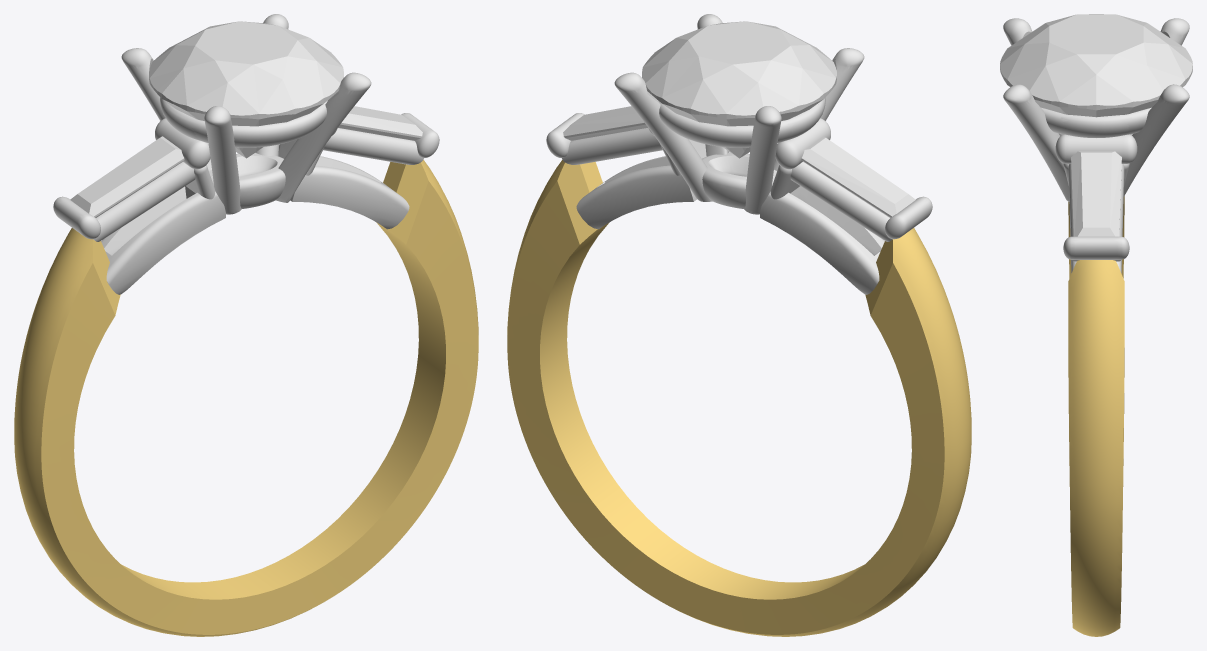
File: LizGygpt_blender.glb
3 views of the same model, side by side, from view 1: azimuth 30°, elevation 25°; view 2: azimuth 150°, elevation 25°; view 3: azimuth 270°, elevation 25° (orthographic).
Parts seen in each view (by area): view 1: Liz YG for 3d model, Liz PT for 3d model, Liz center dia for 3d model, Liz side dia for 3d model, Liz side dia for 3d model.001; view 2: Liz YG for 3d model, Liz PT for 3d model, Liz center dia for 3d model, Liz side dia for 3d model, Liz side dia for 3d model.001; view 3: Liz YG for 3d model, Liz center dia for 3d model, Liz PT for 3d model, Liz side dia for 3d model.001.
Part boxes in pixels (<box>): Liz YG for 3d model: <box>14,160,478,636</box>; Liz PT for 3d model: <box>53,14,439,294</box>; Liz center dia for 3d model: <box>149,21,343,158</box>; Liz side dia for 3d model: <box>70,136,184,217</box>; Liz side dia for 3d model.001: <box>338,106,422,140</box>; Liz YG for 3d model: <box>507,160,971,636</box>; Liz PT for 3d model: <box>546,14,932,294</box>; Liz center dia for 3d model: <box>642,21,836,158</box>; Liz side dia for 3d model: <box>801,136,915,217</box>; Liz side dia for 3d model.001: <box>563,106,647,140</box>; Liz YG for 3d model: <box>1068,196,1124,636</box>; Liz center dia for 3d model: <box>1000,14,1192,117</box>; Liz PT for 3d model: <box>1003,18,1189,273</box>; Liz side dia for 3d model.001: <box>1071,151,1121,236</box>.
Bounding box in the file's own units: 20.1 × 24.81 × 7.5.
